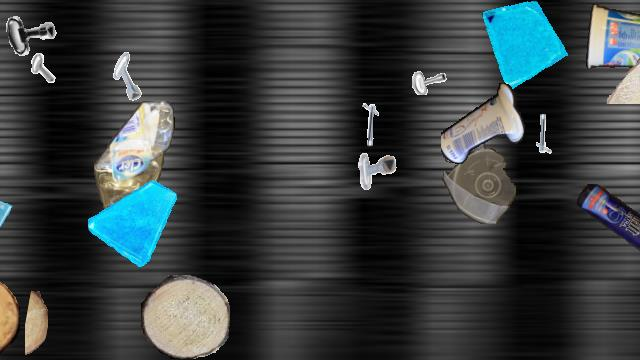glass: (481, 1, 573, 93), (88, 177, 178, 267), (0, 190, 16, 254)
metal: (0, 1, 61, 63), (349, 101, 403, 155), (400, 43, 452, 95), (105, 51, 155, 101), (513, 106, 563, 156), (7, 51, 55, 99), (356, 148, 398, 190)
plastic: (94, 101, 176, 247), (441, 81, 525, 167), (442, 135, 516, 223), (577, 184, 640, 258), (584, 1, 640, 71)
wood: (141, 275, 229, 359), (606, 45, 640, 103), (0, 279, 19, 359), (25, 291, 47, 359)
